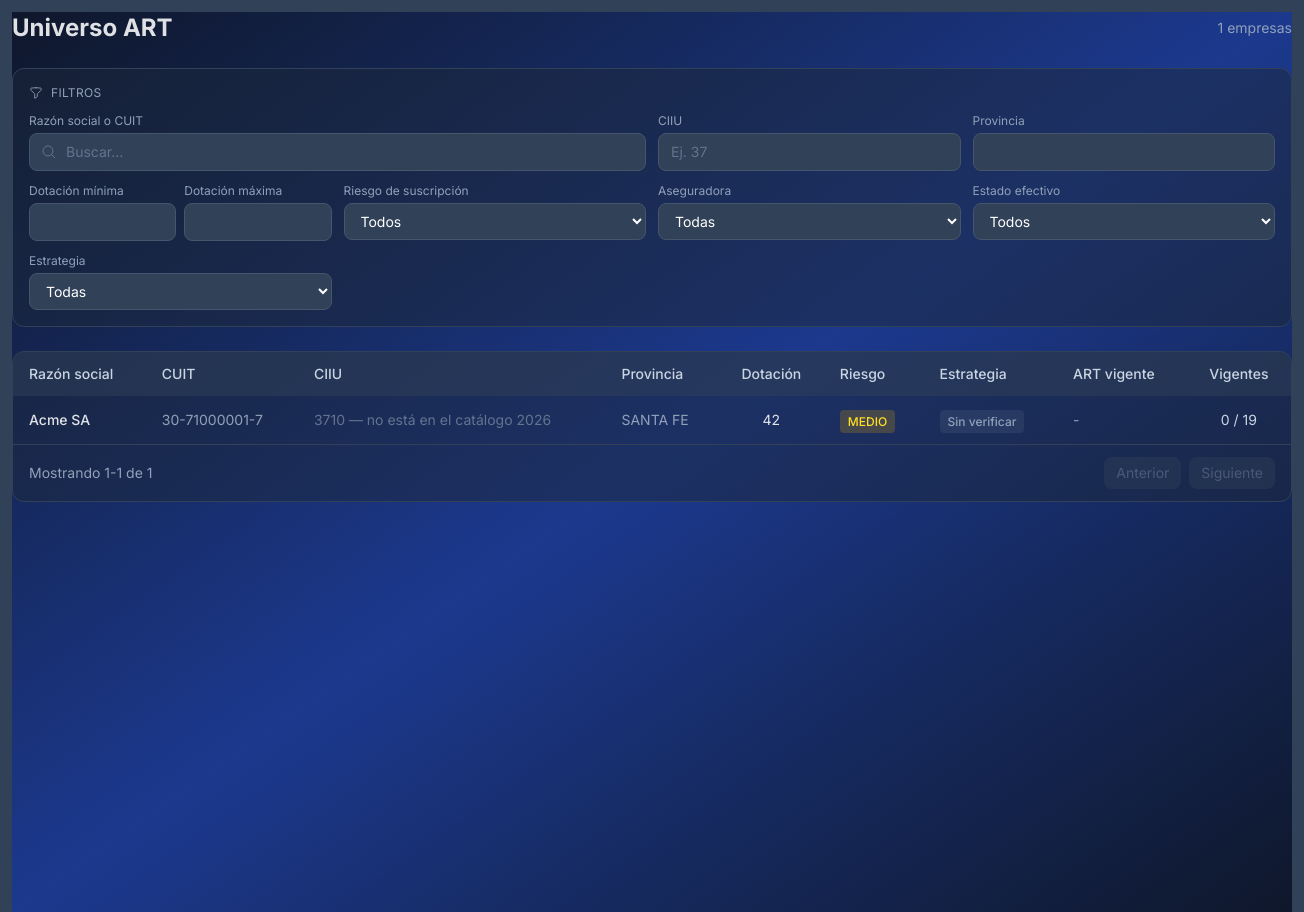
Test case: ArtCarteraListado - rango de dotación › el 422 por rango inválido muestra el mensaje del backend y no una lista vacía muda
Type "80" into the number field labelled "Dotación mínima".
click(103, 222); type("80")  # box [29,203,176,241]
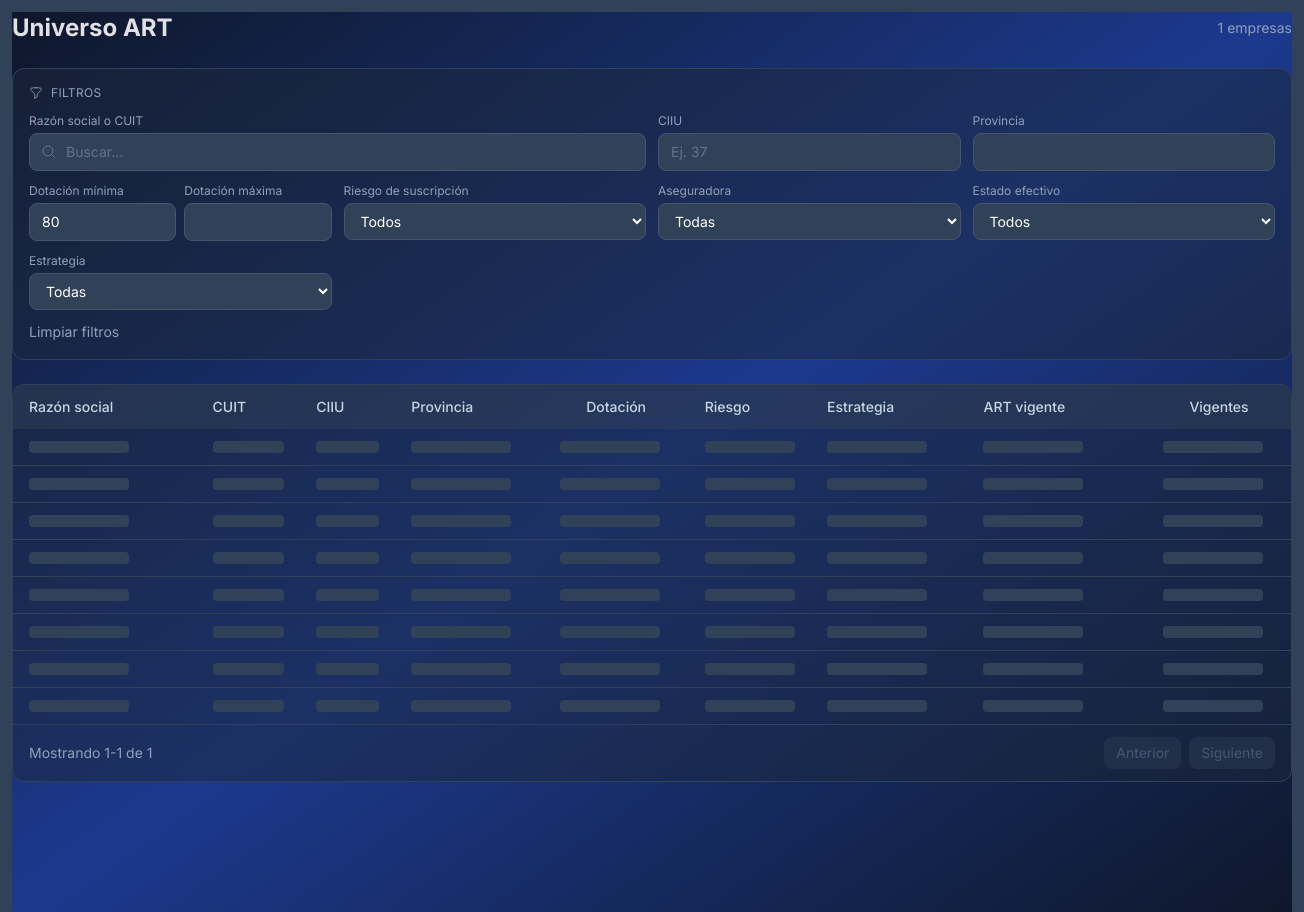
Type "5" into the number field labelled "Dotación máxima".
click(258, 222); type("5")  # box [184,203,332,241]
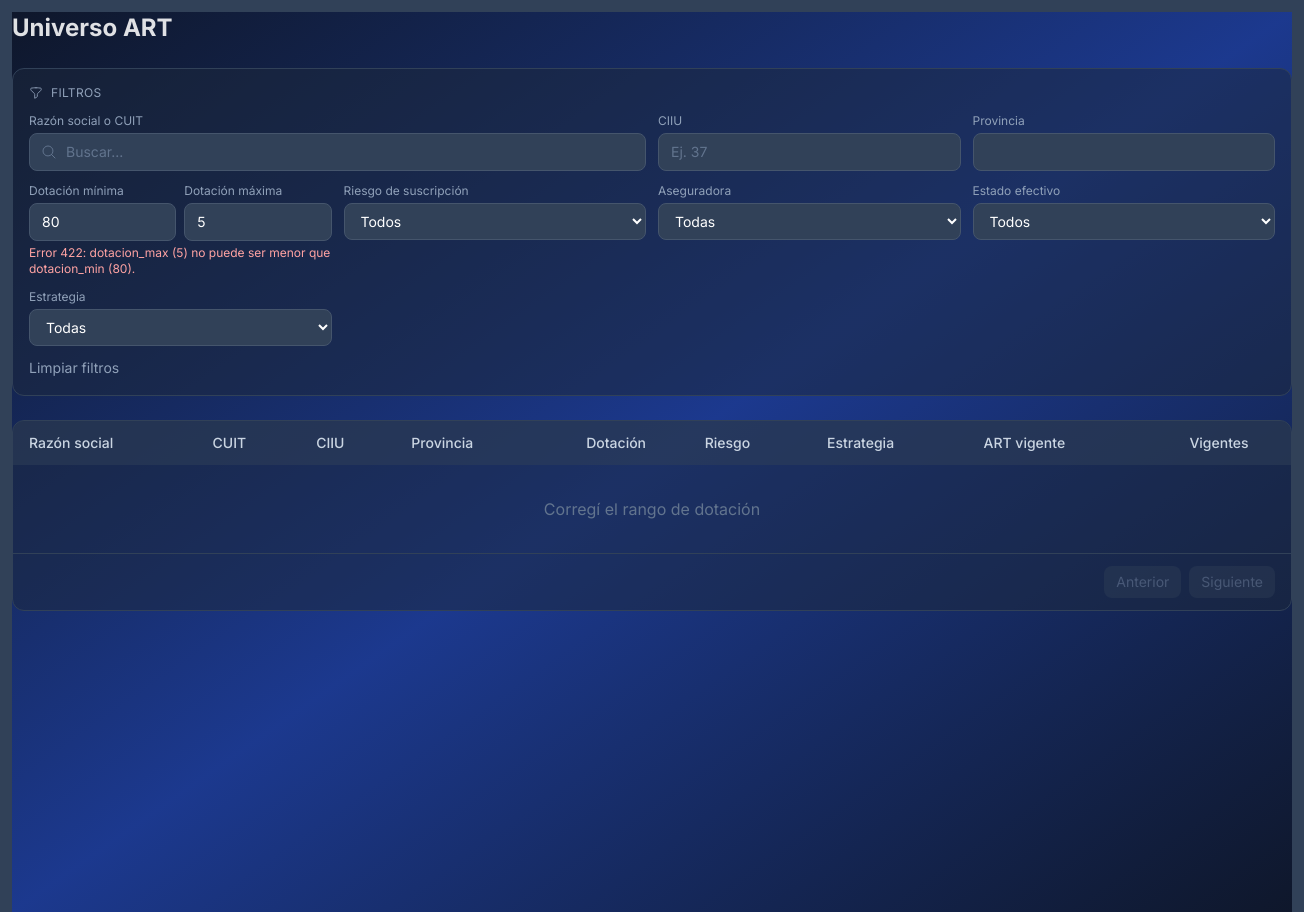
Expected: the text "Acme SA" is not shown
Result: the text "dotacion_max (5) no puede ser menor que dotacion_min (80)." is shown at [29,245,330,276]
Result: the message "Error 422: dotacion_max (5) no puede ser menor que dotacion_min (80)." is shown at [29,245,332,277]
